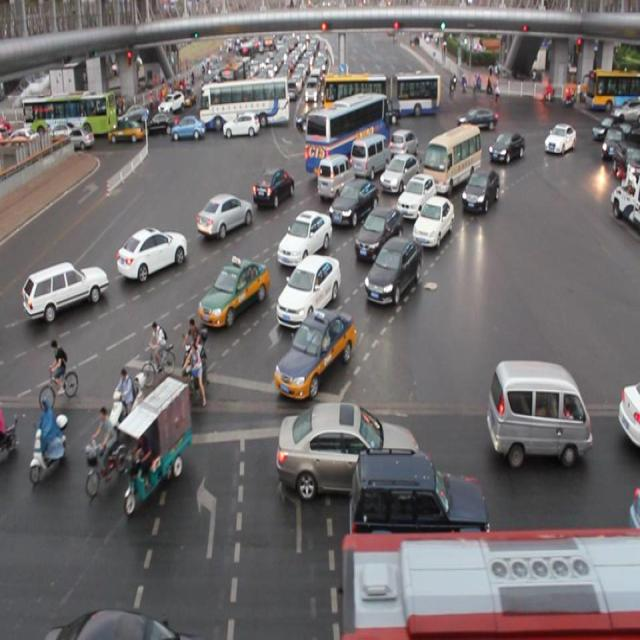car: (278, 399, 419, 496), (349, 448, 488, 536), (274, 307, 356, 398), (194, 258, 266, 336), (24, 256, 109, 321), (275, 251, 341, 332), (361, 232, 422, 308), (117, 223, 188, 280), (274, 212, 330, 270), (346, 209, 397, 269), (197, 190, 253, 239), (412, 193, 455, 250), (327, 178, 379, 224), (392, 173, 434, 219), (254, 165, 297, 206), (461, 166, 498, 212), (380, 149, 421, 188), (488, 132, 524, 164), (390, 126, 418, 161), (542, 125, 574, 154)
truck: (485, 356, 592, 466), (423, 125, 480, 189), (351, 133, 393, 178), (316, 154, 354, 200)
van: (338, 524, 640, 640), (306, 92, 392, 177)
